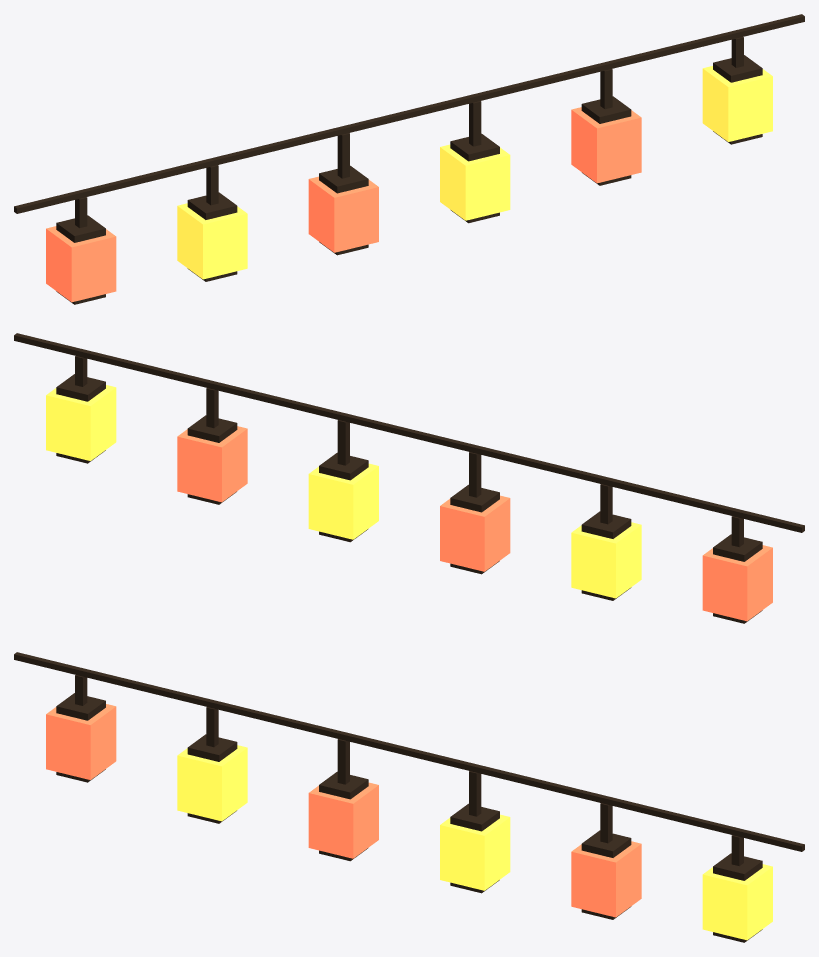
Rendered from tt-lantern-string.glb.
3 views of the same model, one above another, from view 1: azimuth 30°, elevation 25°; view 2: azimuth 150°, elevation 25°; view 3: azimuth 330°, elevation 25° (orthographic).
Visible parts, largest first — view 1: box-prop; view 2: box-prop; view 3: box-prop.
Part boxes in pixels (left/top/right/bottom): box-prop: left=14, top=14, right=804, bottom=304; box-prop: left=14, top=333, right=804, bottom=623; box-prop: left=14, top=652, right=804, bottom=942.
Bounding box in the file's own units: 6 × 0.855 × 0.34.
